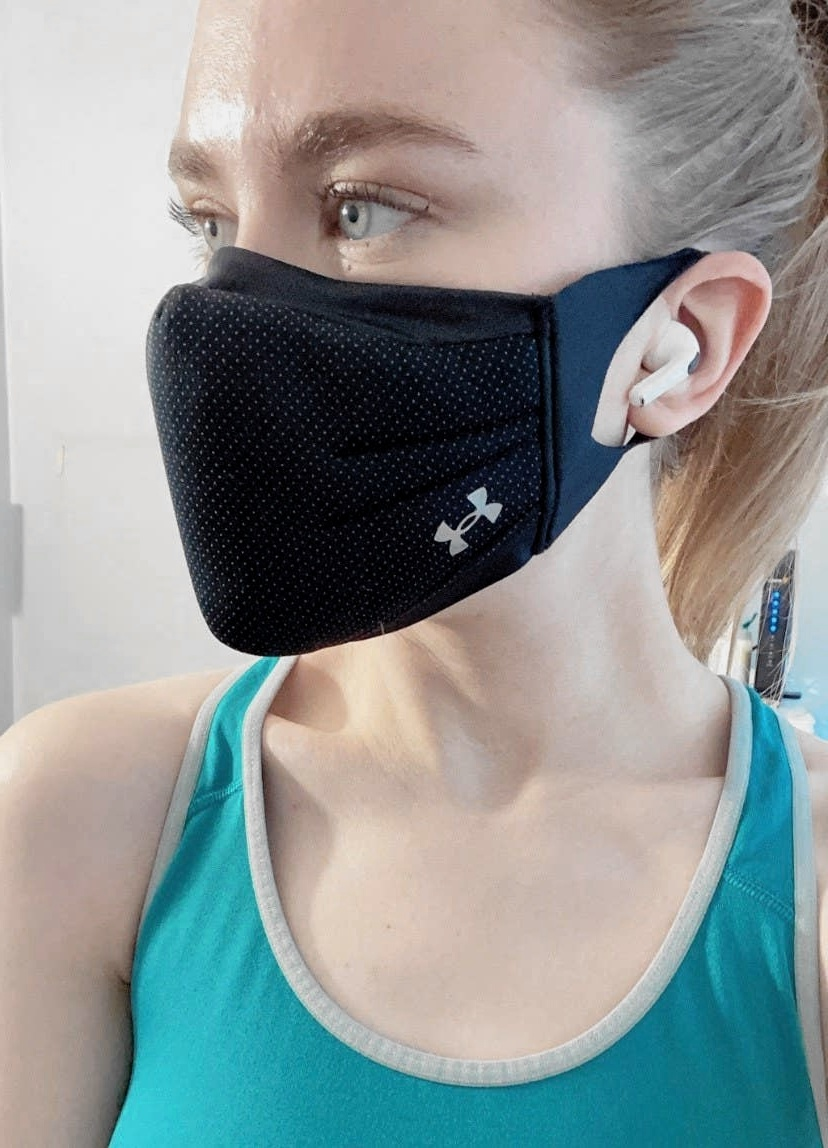earphone: (617, 253, 775, 439)
